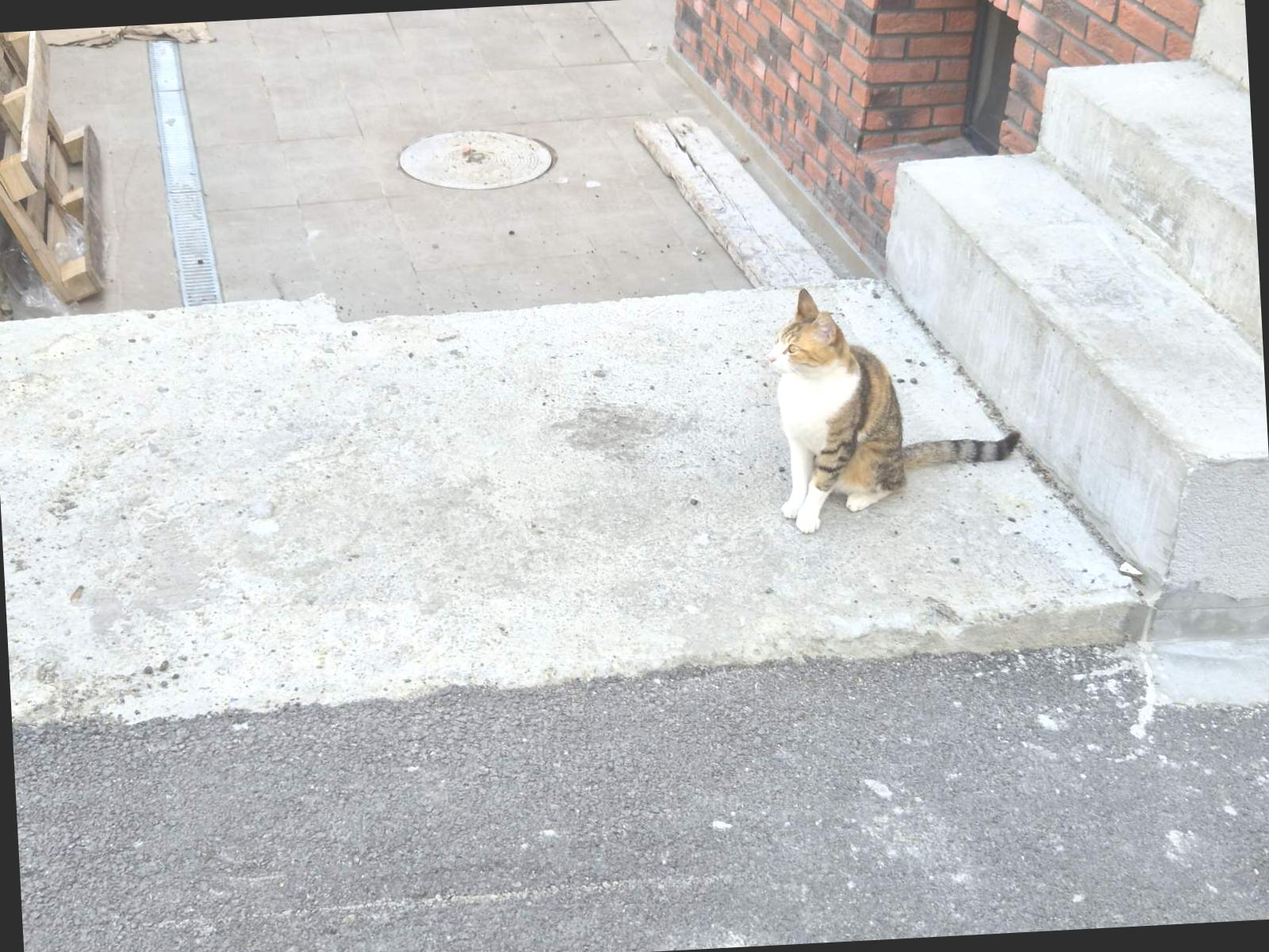macka: (762, 276, 1026, 535)
